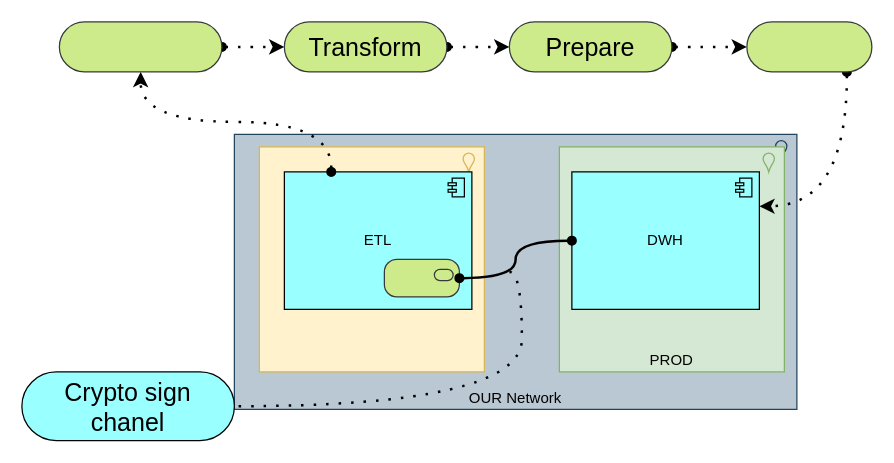
Some shapes in this 894 by 463 pixel diagram are drawn without their labels. Here are the shapes that lost their labels. From the top down, the box of each, then its label:
(58, 21, 222, 72): Extract
(746, 21, 872, 72): Upload
(258, 146, 484, 372): SAND
